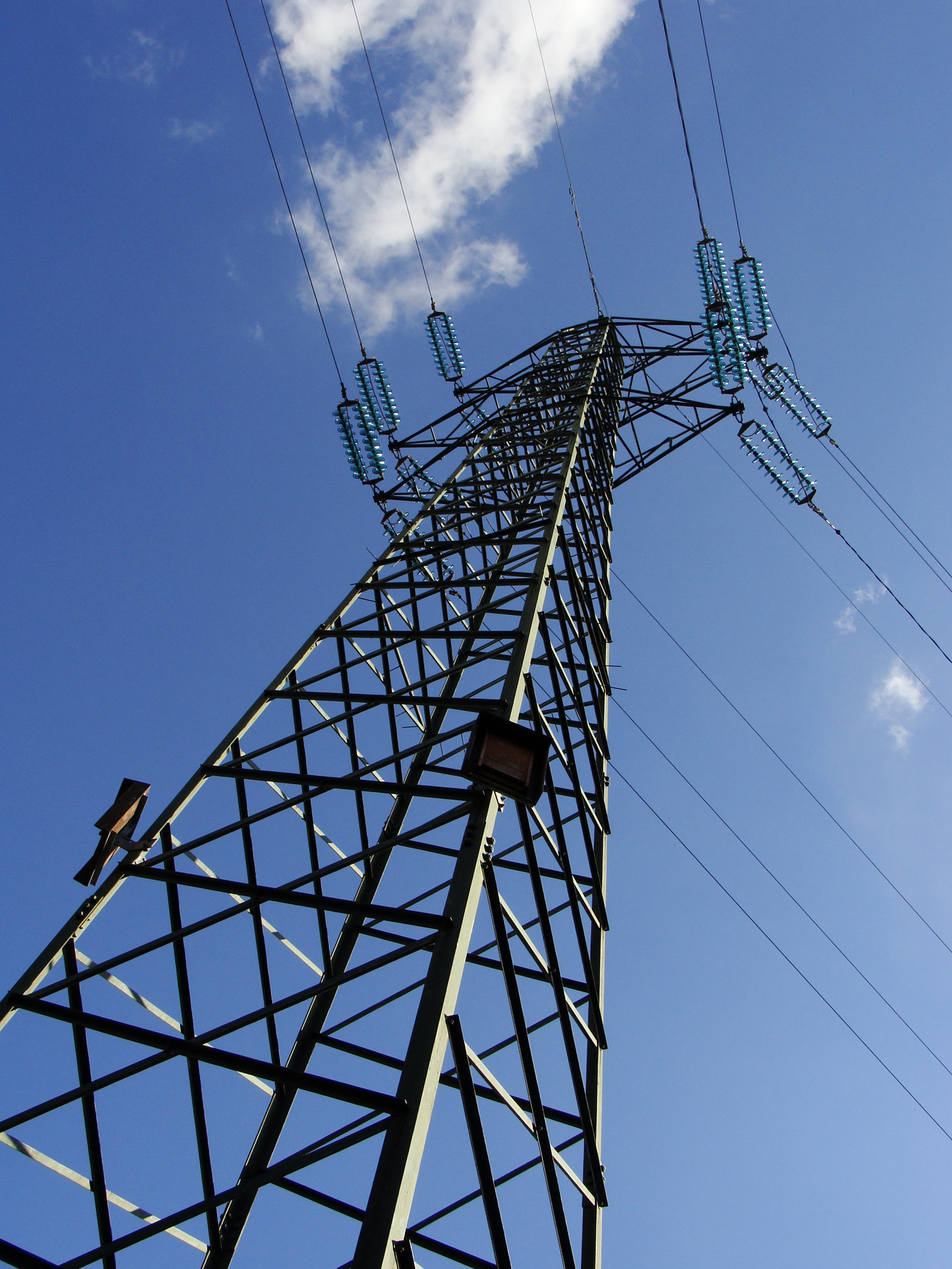insulator: (738, 422, 818, 507), (763, 361, 835, 441), (327, 395, 387, 485), (725, 252, 776, 342), (352, 349, 401, 437), (418, 304, 467, 381), (707, 310, 749, 392), (690, 235, 733, 314)
